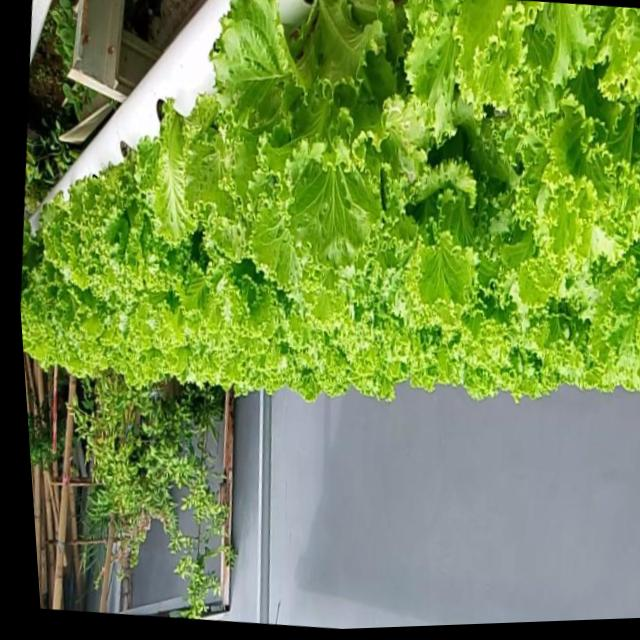Mature: (20, 0, 640, 430), (193, 5, 387, 302), (26, 146, 168, 357)
